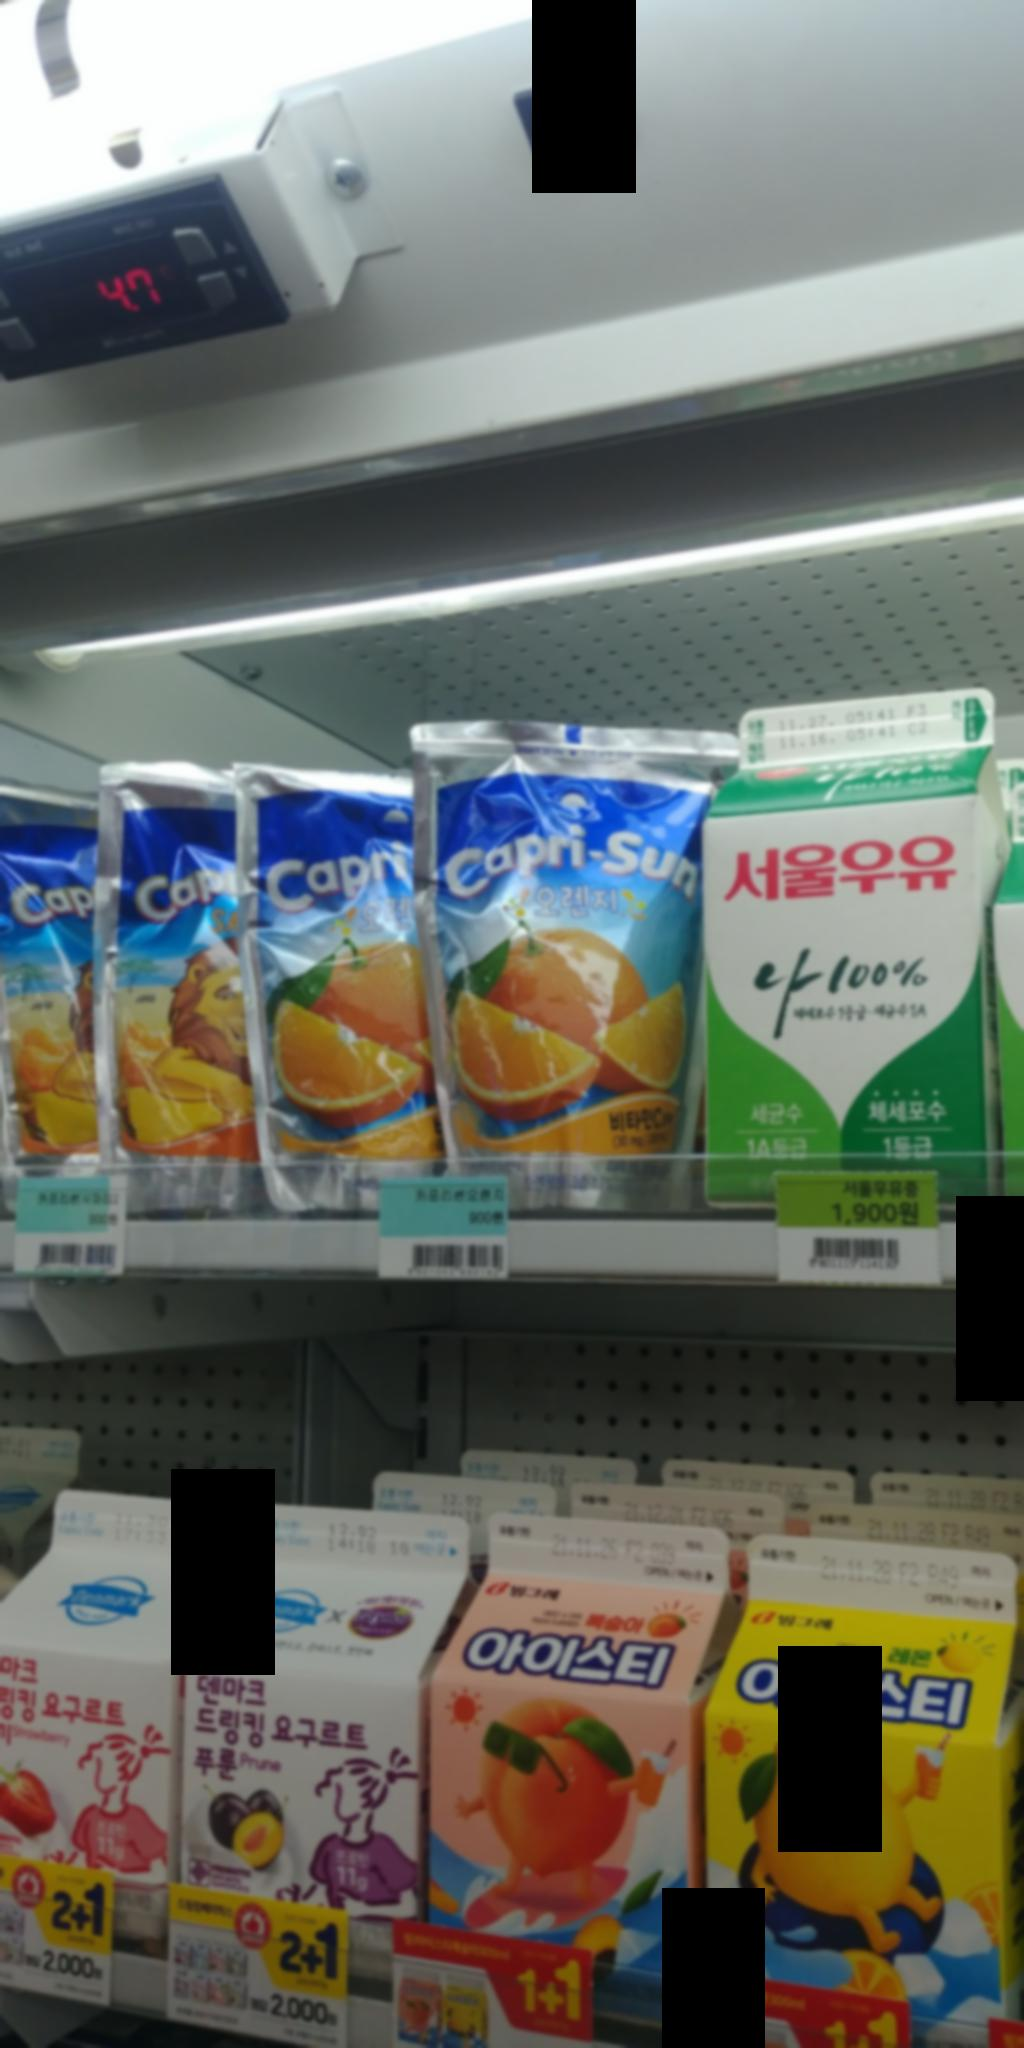cafrisun: (410, 712, 729, 1208), (246, 765, 443, 1211)
